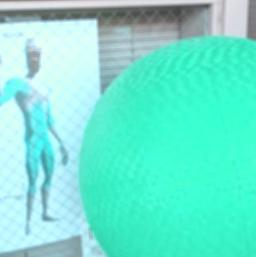algae: (75, 33, 256, 257)
